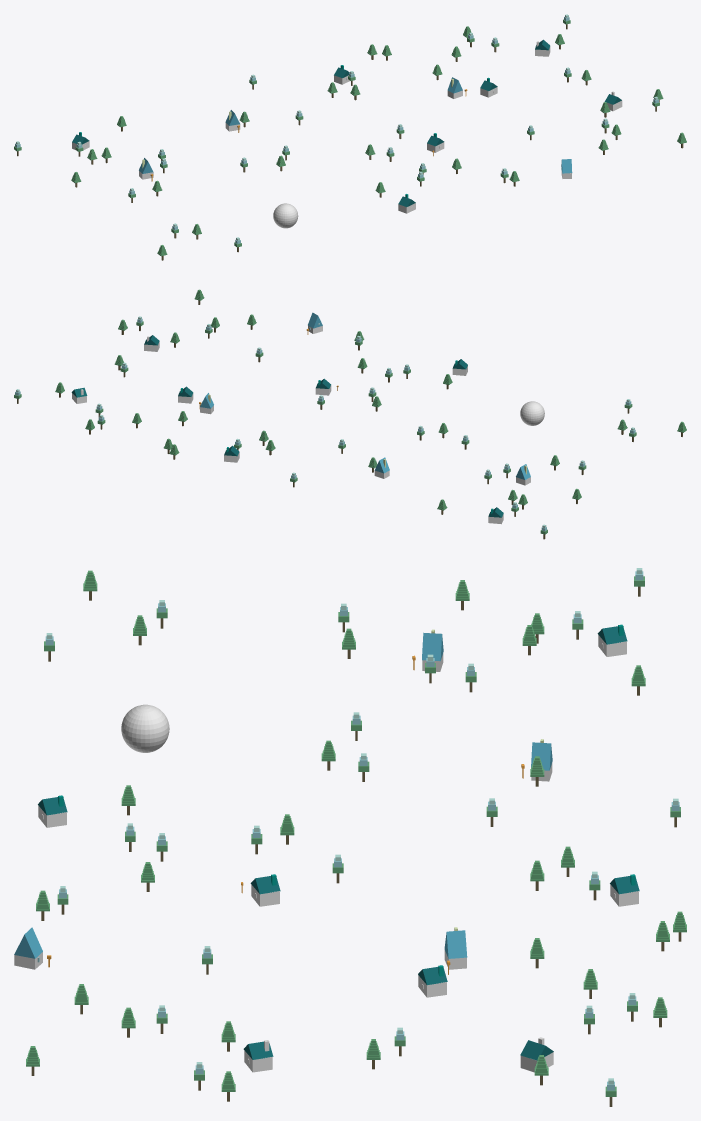
The model's file is new_game_objects.fbx.
3 renders of one model, top to bottom at view 1: azimuth 30°, elevation 25°; view 2: azimuth 150°, elevation 25°; view 3: azimuth 270°, elevation 25°, orthographic. The views are drawn at different scales.
Parts seen in each view (by area): view 1: Sphere; view 2: Sphere; view 3: Sphere.
Part boxes in pixels (left/top/right/bottom): Sphere: left=273, top=203, right=298, bottom=228; Sphere: left=520, top=401, right=544, bottom=425; Sphere: left=121, top=704, right=169, bottom=752.
Size of the model in its own units: 8159 by 417 by 4508.
